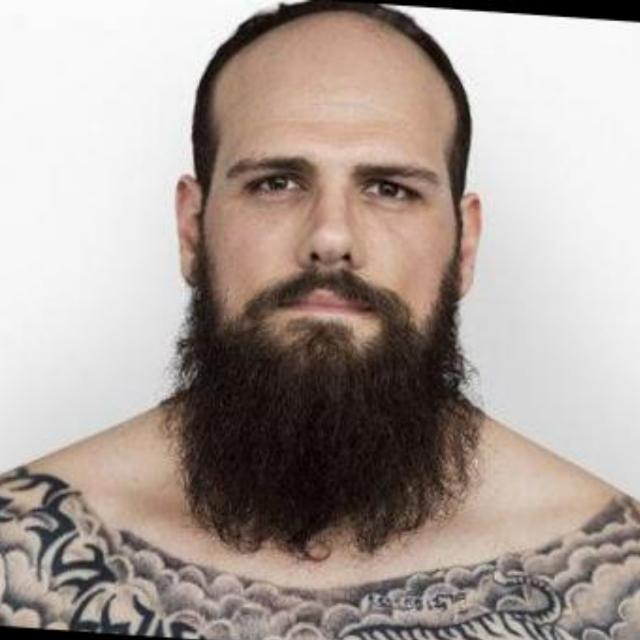Natural: (171, 83, 534, 439)
